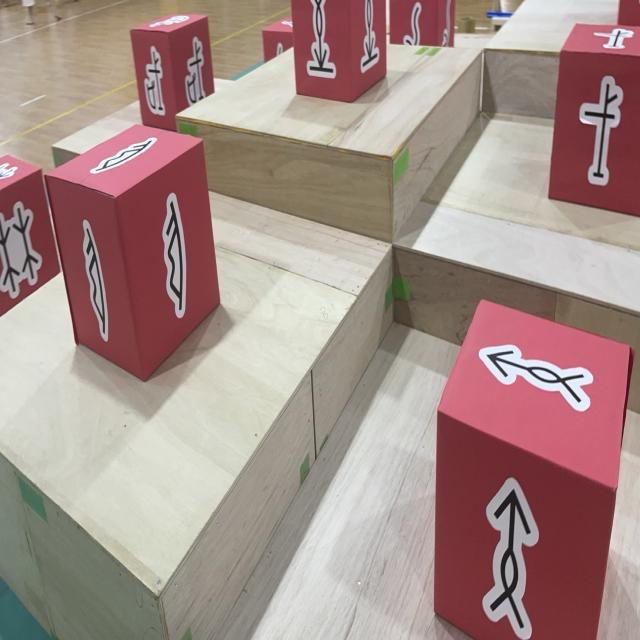11: (81, 219, 109, 345), (162, 192, 187, 318), (90, 136, 158, 174)
12: (482, 476, 540, 640), (478, 345, 594, 413)
13: (403, 1, 422, 46), (442, 0, 452, 48)
5: (143, 45, 166, 117), (184, 35, 206, 106), (149, 13, 189, 28)
6: (0, 200, 43, 298), (0, 160, 17, 180)
7: (306, 0, 337, 79), (360, 0, 380, 75)
9: (580, 74, 624, 187), (594, 28, 634, 50)
fighter: (434, 299, 635, 640), (45, 124, 221, 382), (548, 23, 640, 218), (290, 0, 387, 104), (130, 14, 215, 130), (0, 154, 60, 318), (389, 0, 455, 47), (263, 16, 295, 64)
